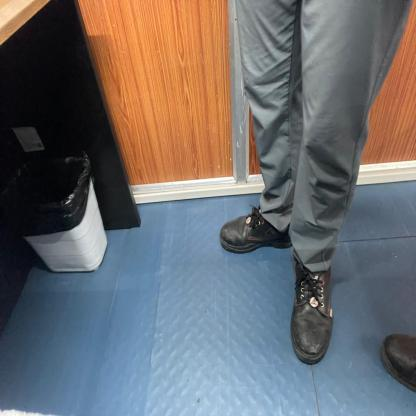bota: (289, 258, 334, 366), (219, 205, 293, 255), (377, 322, 416, 395)
